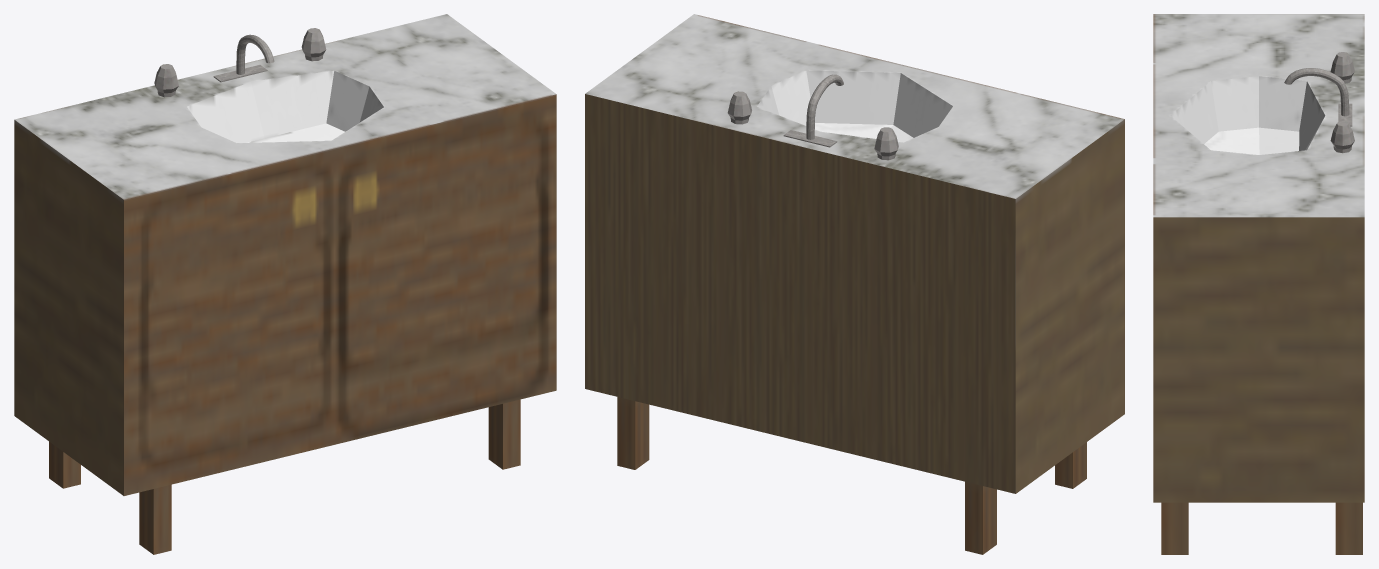
Rendered from MKU_bathroom_vanity_fin.fbx.
3 views of the same model, side by side, from view 1: azimuth 30°, elevation 25°; view 2: azimuth 150°, elevation 25°; view 3: azimuth 270°, elevation 25° (orthographic). The views are drawn at different scales.
Parts seen in each view (by area): view 1: Sink vanity; view 2: Sink vanity; view 3: Sink vanity.
Boxes of the visible parts, x1,y1,x2,y2 form: Sink vanity: (14,14,556,554); Sink vanity: (585,14,1124,554); Sink vanity: (1153,14,1364,554).
Size of the model in its own units: 247 by 227 by 109.
